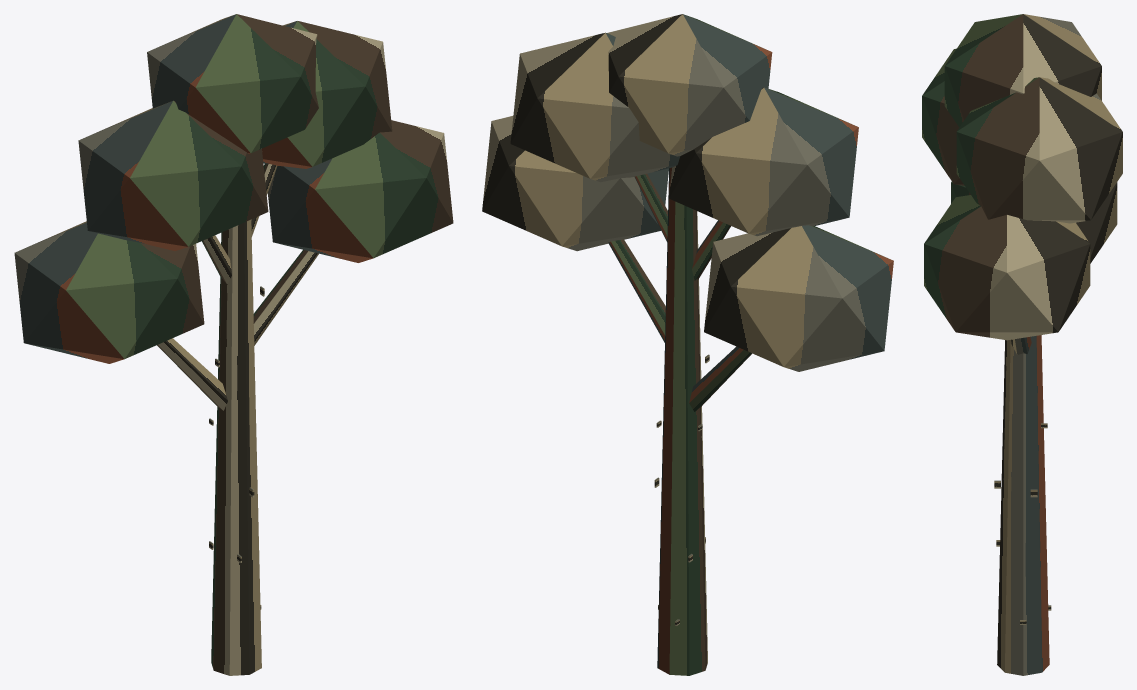
The model's file is birchTrees.obj.
3 renders of one model, left to right at view 1: azimuth 30°, elevation 25°; view 2: azimuth 150°, elevation 25°; view 3: azimuth 270°, elevation 25°, orthographic.
Visible parts, largest first — view 1: birchTrees; view 2: birchTrees; view 3: birchTrees.
Part boxes in pixels (<box>): birchTrees: <box>14,14,453,675</box>; birchTrees: <box>482,14,893,675</box>; birchTrees: <box>922,14,1122,675</box>.
Size of the model in its own units: 5.18 by 7.93 by 2.22.
1 material, 1 textured.
